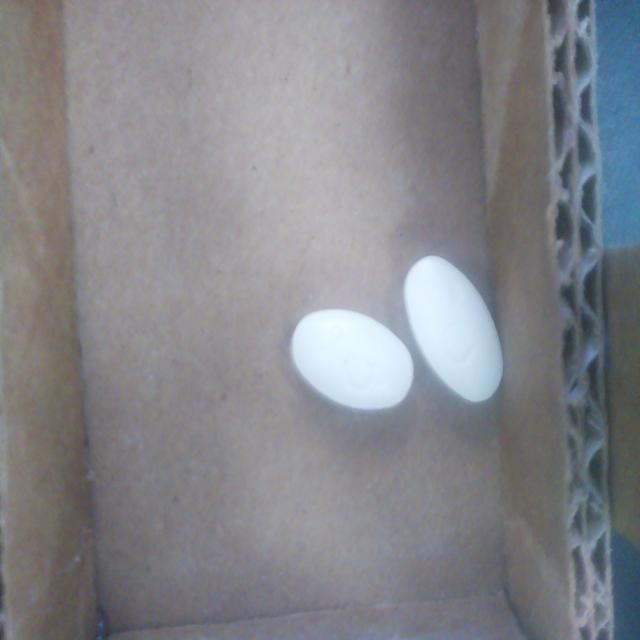pill: (404, 255, 505, 404), (291, 308, 415, 412)
